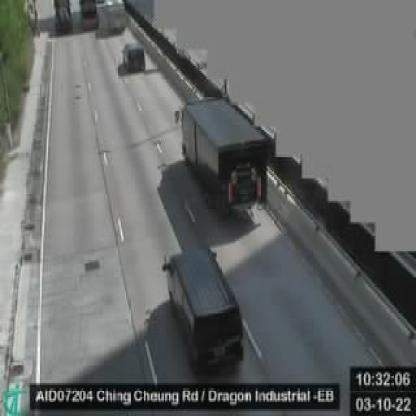Car: (176, 97, 265, 218), (161, 248, 243, 367), (121, 43, 145, 70)
